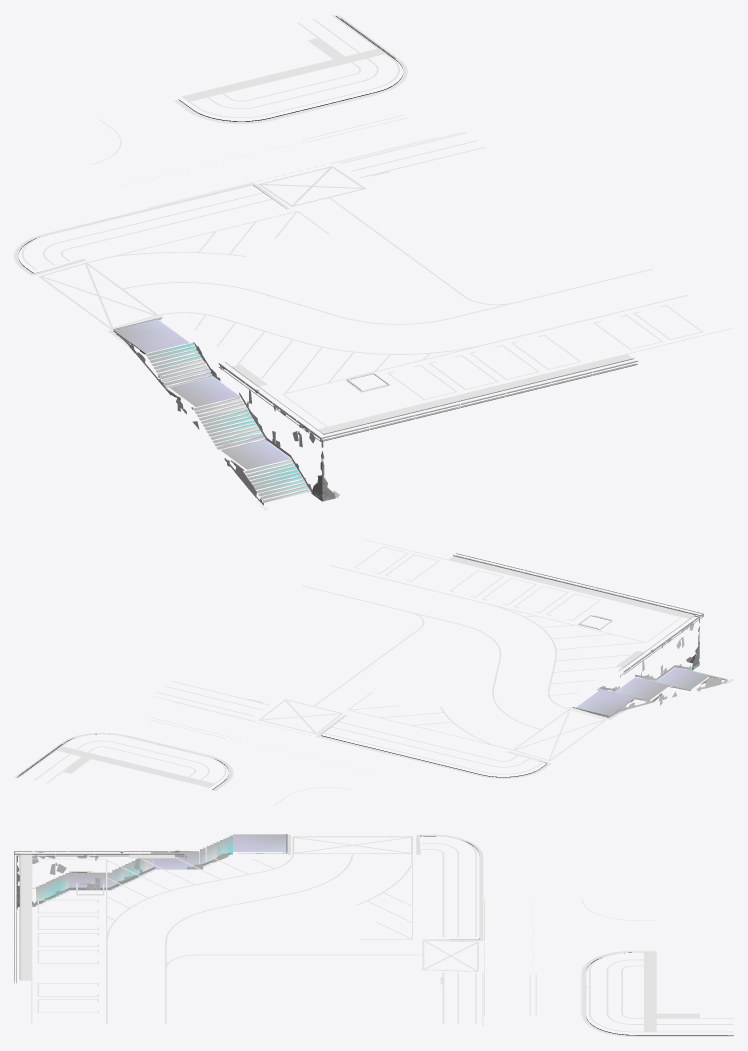
3 views of the same model, one above another, from view 1: azimuth 30°, elevation 25°; view 2: azimuth 150°, elevation 25°; view 3: azimuth 270°, elevation 25° (orthographic). The views are drawn at different scales.
Parts seen in each view (by area): view 1: SM_I_RoadFacility_Ground_C_02C; view 2: SM_I_RoadFacility_Ground_C_02C; view 3: SM_I_RoadFacility_Ground_C_02C.
Boxes of the visible parts, x1,y1,x2,y2 form: SM_I_RoadFacility_Ground_C_02C: [14, 14, 733, 510]; SM_I_RoadFacility_Ground_C_02C: [14, 539, 733, 805]; SM_I_RoadFacility_Ground_C_02C: [14, 834, 733, 1036].
Bounding box in the file's own units: 2640 × 1755 × 228.
